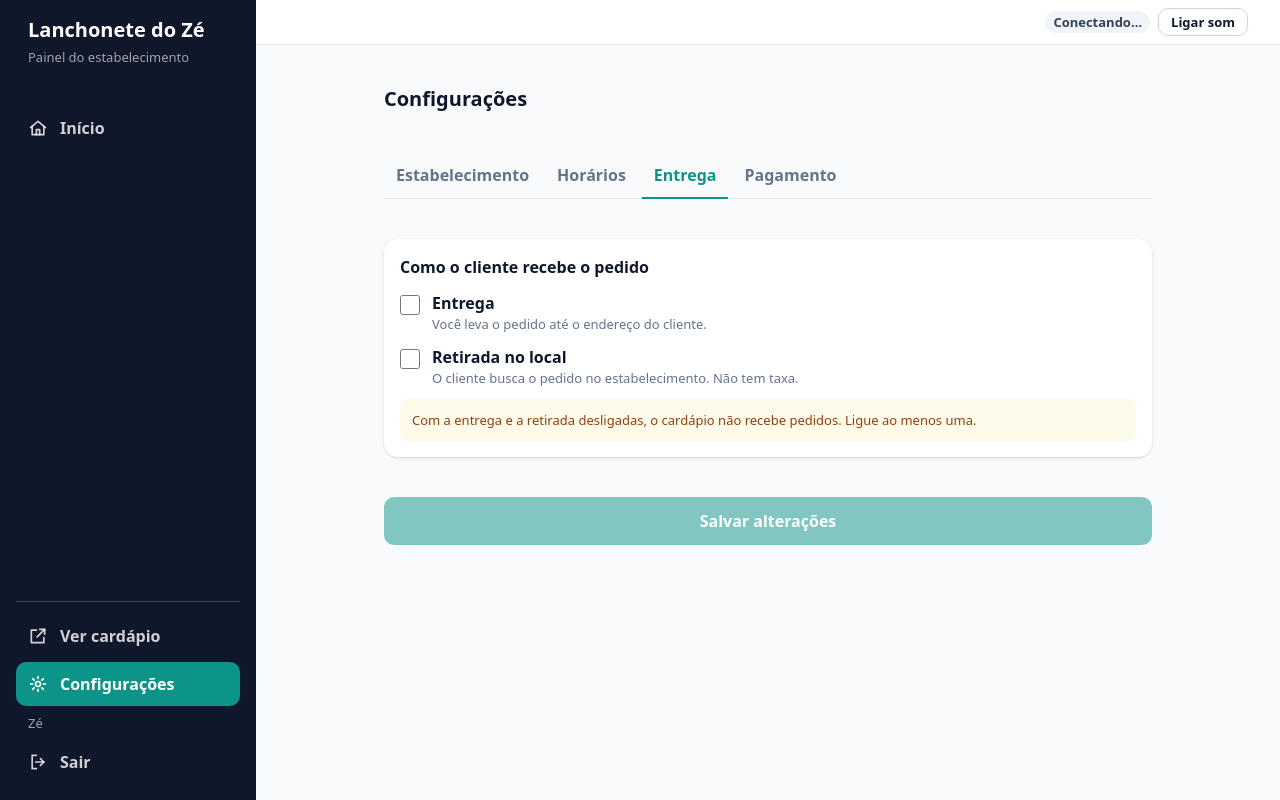
Test: aba de entrega › só retirada: liga, salva e o aviso some
Click the checkbox labelled "Retirada no local". click: {"x": 410, "y": 359}
box: [400,349,420,369]
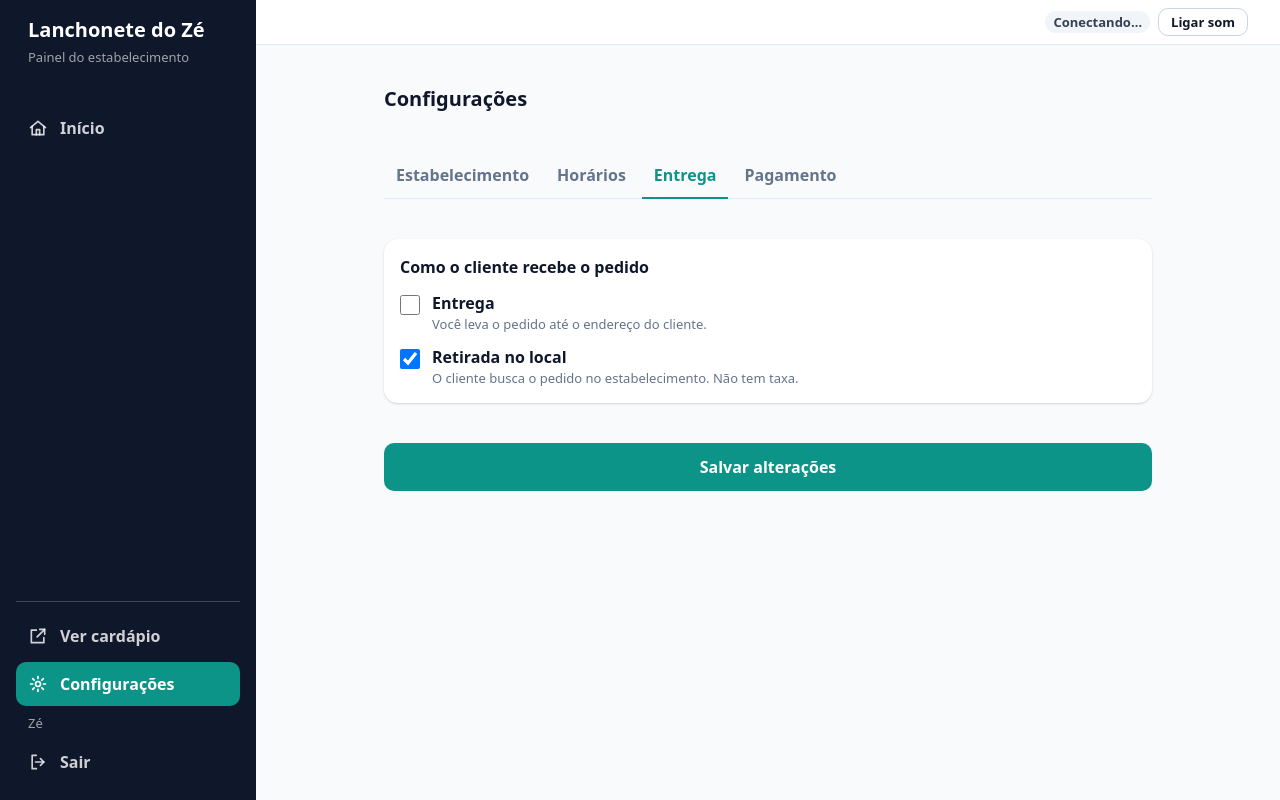
Click the button "Salvar alterações". click: {"x": 768, "y": 467}
box: [384,443,1152,491]
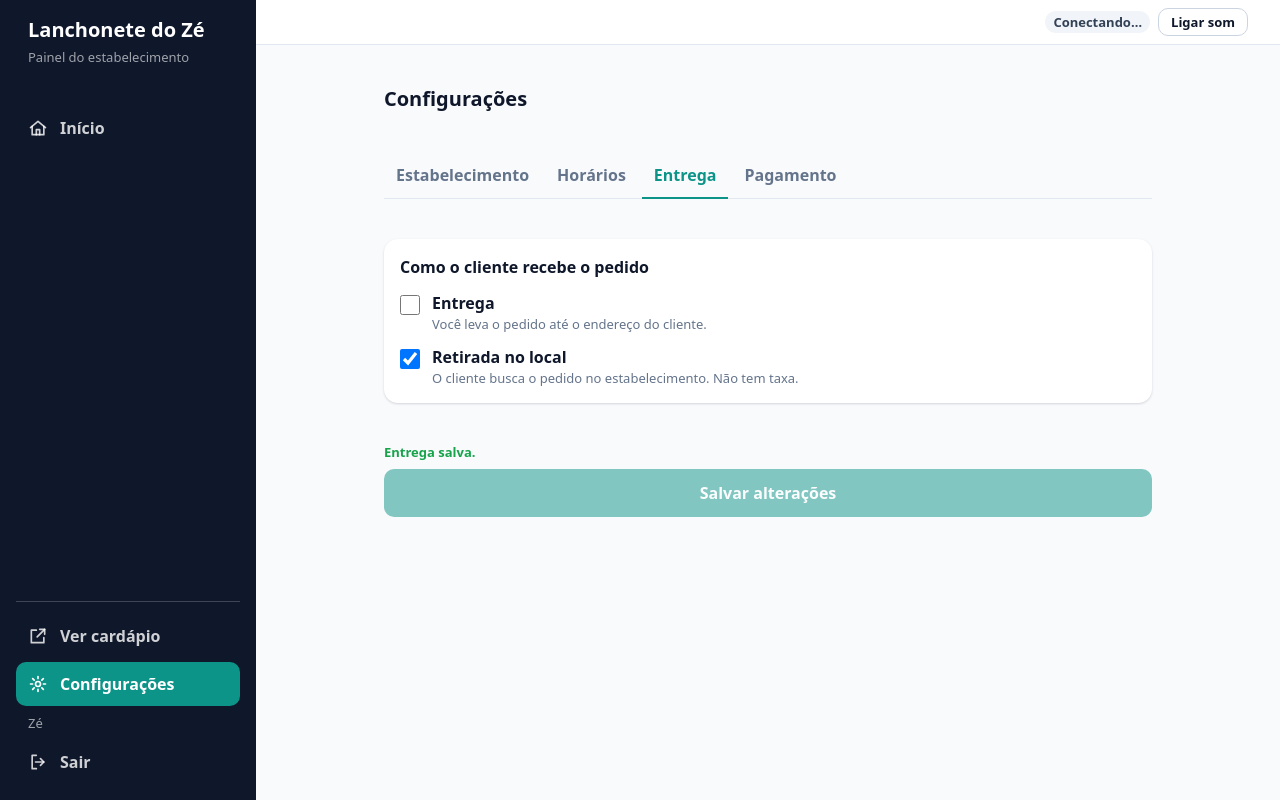
Result: the text "Entrega salva." is shown at [384,443,476,461]
